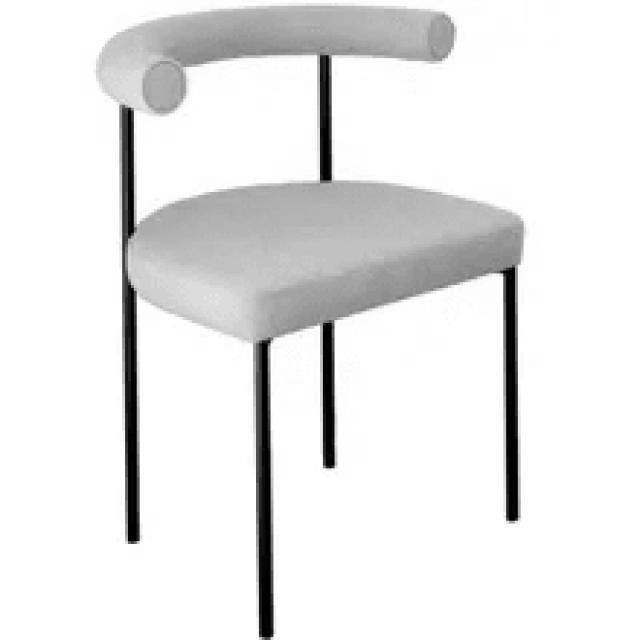chair: (95, 3, 525, 637)
